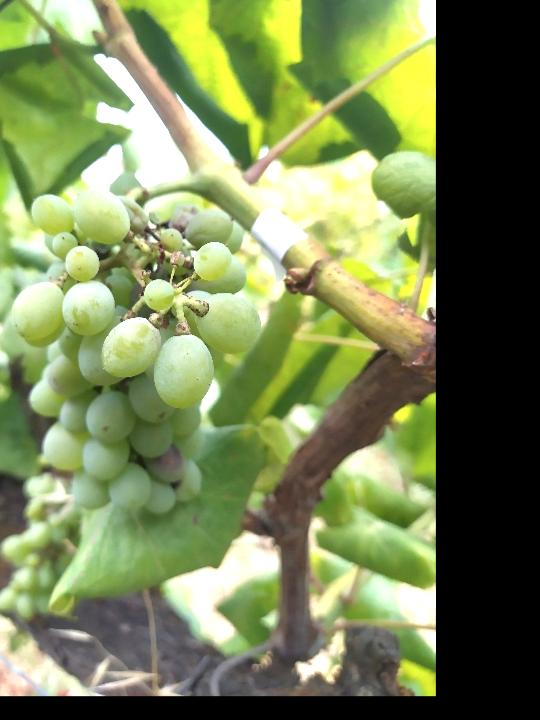grape: (4, 182, 266, 515)
